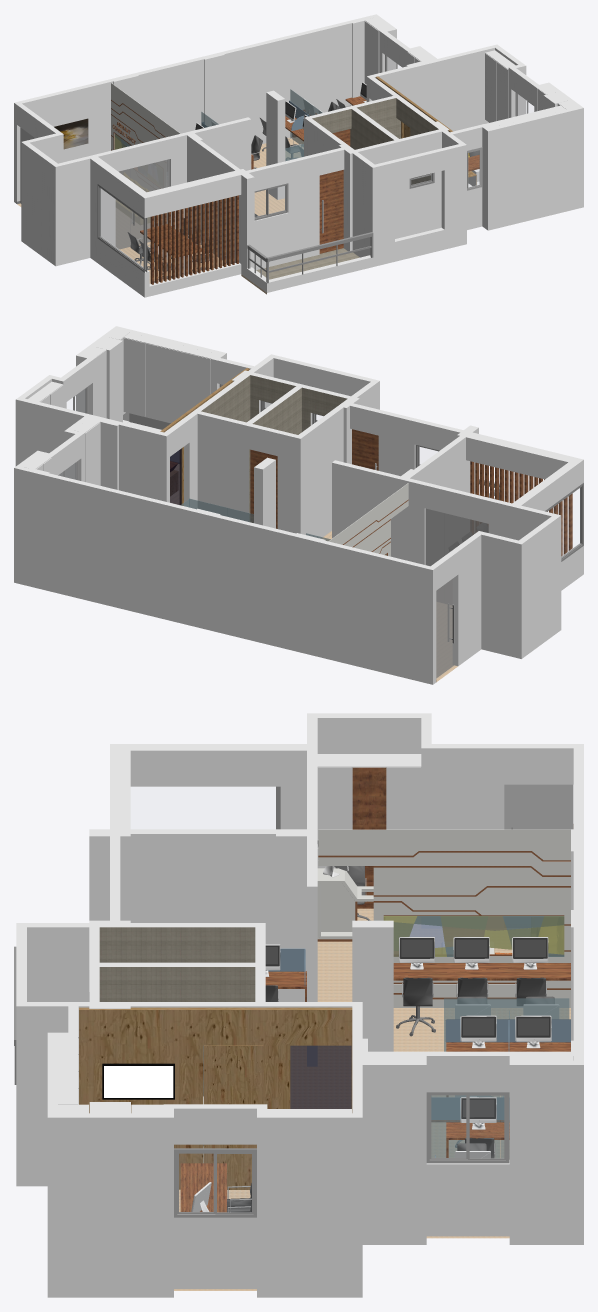
File: office.glb
3 views of the same model, one above another, from view 1: azimuth 30°, elevation 25°; view 2: azimuth 150°, elevation 25°; view 3: azimuth 270°, elevation 25° (orthographic). The views are drawn at different scales.
Parts seen in each view (by area): view 1: node_Color:001 1_-41952_67, node_Color:001_-42112_147, node_Color:256_-42128_155, node_Rectangle34353687_-42172_177, node_Text005_-41920_51, node_Rectangle34353694_-42140_161, node_SlidingWindow008_-42162_172, node_Line337_-42170_176, node_Railing001_-42334_258, node_Archmodels vol_89_045_092_-42150_166, node_Rectangle33204_-41860_21, node_Line338_-42166_174; view 2: node_Color:001 1_-41952_67, node_Color:001_-42112_147, node_Rectangle34353687_-42172_177, node_Rectangle34353694_-42140_161, node_Color:256_-42128_155, node_Text005_-41920_51, node_Line337_-42170_176, node_SlidingWindow008_-42162_172, node_Line338_-42166_174, node_Archmodels vol_89_045_092_-42150_166; view 3: node_Color:001 1_-41952_67, node_Color:001_-42112_147, node_Line338_-42166_174, node_Rectangle34353687_-42172_177, node_Line337_-42170_176, node_Text005_-41920_51, node_Rectangle34353694_-42140_161, node_Archmodels vol_89_045_092_-42150_166, node_SlidingWindow008_-42162_172, node_Archmodels vol_89_036_041_-42250_216, node_Rectangle34353701_-42160_171, node_Rectangle34353689_-42078_130 (+5 smaller).
Boxes of the visible parts, box(x1,y1,x2,y2) form: node_Color:001 1_-41952_67: box(14, 14, 583, 297); node_Color:001_-42112_147: box(111, 17, 575, 276); node_Color:256_-42128_155: box(150, 195, 238, 284); node_Rectangle34353687_-42172_177: box(256, 98, 438, 279); node_Text005_-41920_51: box(111, 96, 479, 257); node_Rectangle34353694_-42140_161: box(20, 127, 169, 249); node_SlidingWindow008_-42162_172: box(97, 55, 533, 272); node_Line337_-42170_176: box(17, 137, 303, 294); node_Railing001_-42334_258: box(247, 232, 373, 283); node_Archmodels vol_89_045_092_-42150_166: box(201, 89, 322, 160); node_Rectangle33204_-41860_21: box(54, 118, 88, 149); node_Line338_-42166_174: box(375, 76, 476, 184); node_Color:001 1_-41952_67: box(14, 326, 583, 684); node_Color:001_-42112_147: box(23, 329, 408, 556); node_Rectangle34353687_-42172_177: box(201, 375, 347, 521); node_Rectangle34353694_-42140_161: box(170, 448, 488, 678); node_Color:256_-42128_155: box(470, 461, 572, 556); node_Text005_-41920_51: box(170, 429, 408, 555); node_Line337_-42170_176: box(170, 464, 457, 681); node_SlidingWindow008_-42162_172: box(63, 384, 583, 561); node_Line338_-42166_174: box(160, 368, 249, 505); node_Archmodels vol_89_045_092_-42150_166: box(181, 498, 386, 555); node_Color:001 1_-41952_67: box(16, 713, 583, 1297); node_Color:001_-42112_147: box(56, 754, 573, 1113); node_Line338_-42166_174: box(79, 1007, 352, 1189); node_Rectangle34353687_-42172_177: box(99, 927, 255, 1163); node_Line337_-42170_176: box(174, 908, 570, 1290); node_Text005_-41920_51: box(180, 851, 570, 1212); node_Rectangle34353694_-42140_161: box(290, 784, 573, 1108); node_Archmodels vol_89_045_092_-42150_166: box(431, 998, 569, 1158); node_SlidingWindow008_-42162_172: box(89, 786, 509, 1217); node_Archmodels vol_89_036_041_-42250_216: box(268, 948, 570, 1157); node_Rectangle34353701_-42160_171: box(104, 1066, 173, 1097); node_Rectangle34353689_-42078_130: box(321, 883, 494, 954).
Size of the model in its own units: 13.65 by 2.9 by 8.13.
Materials: 37 (9 with a texture image).
